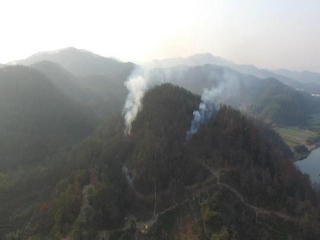smoke: (187, 74, 237, 142), (119, 58, 163, 134)
